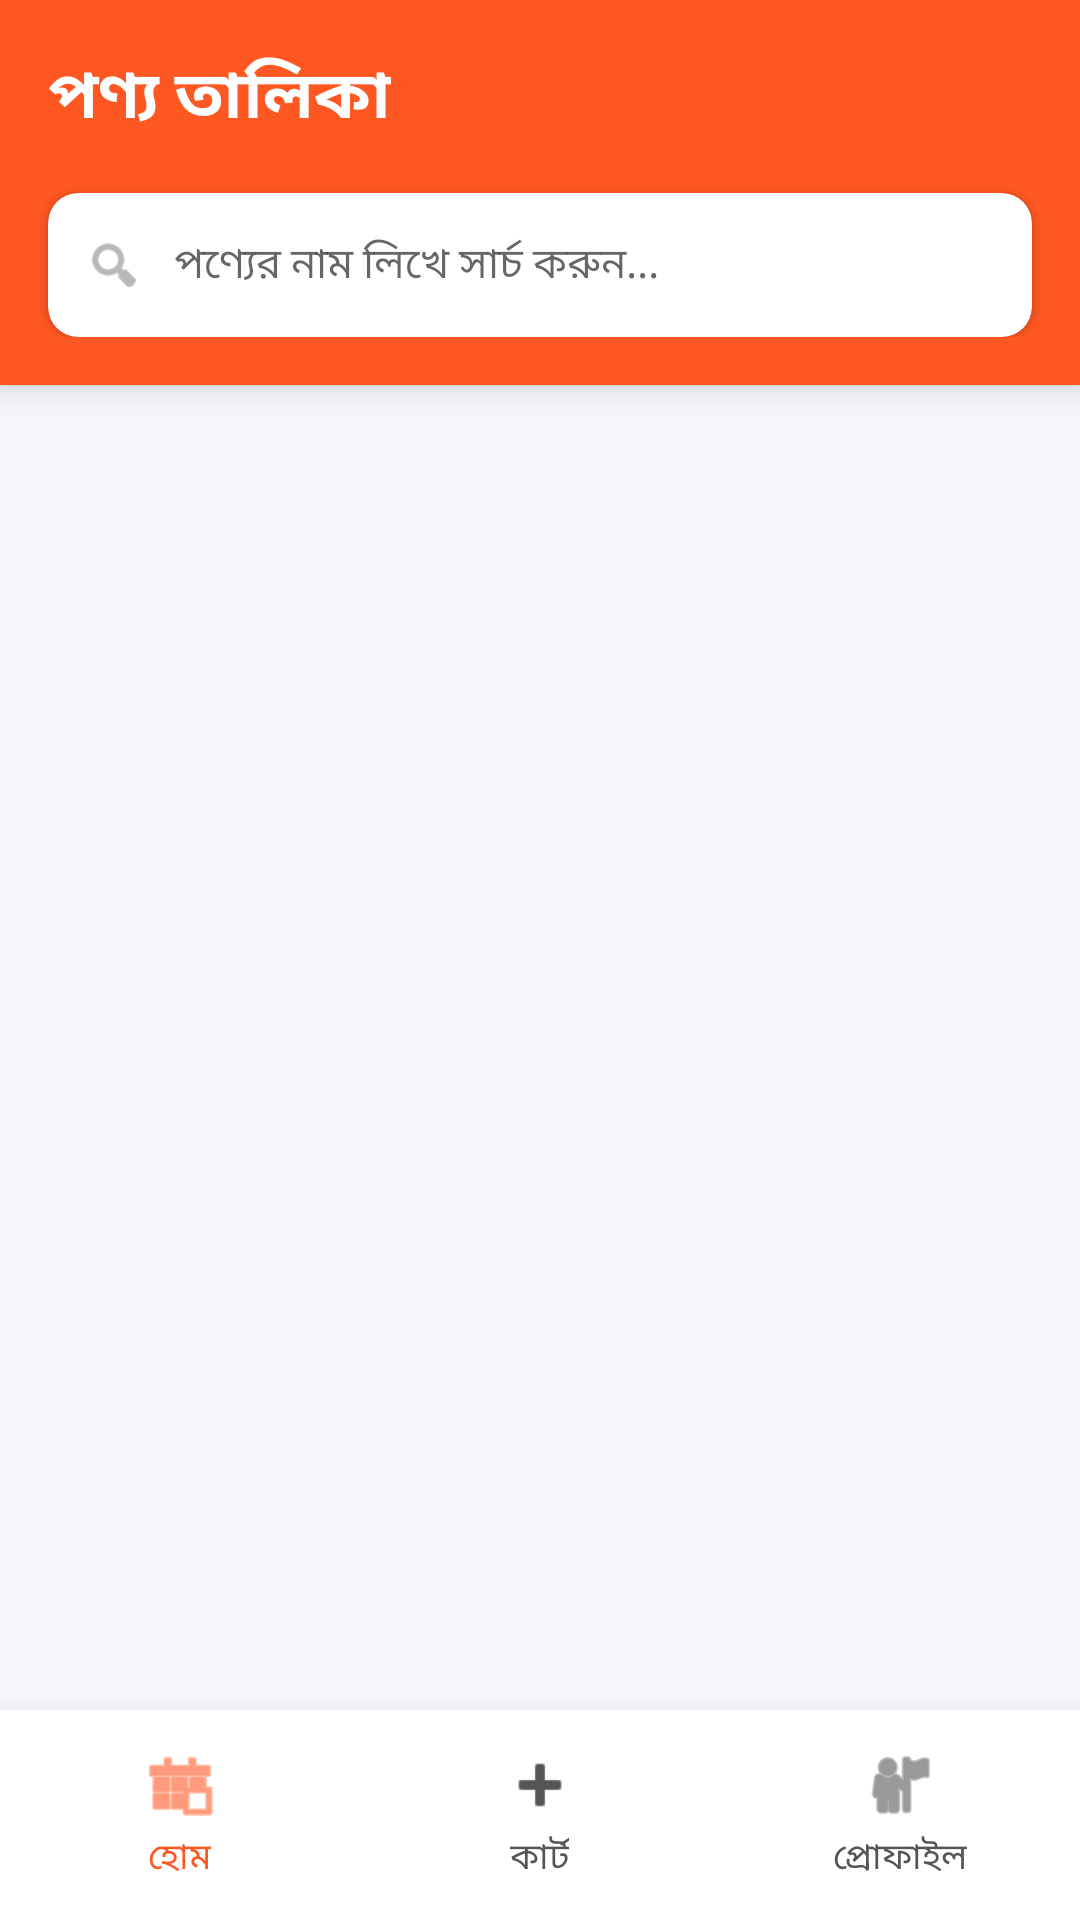

Icon bounding boxes for this 1080×1920 phone screenshot, format (x1=x1, y1=y1, x2=x2, y2=y2):
add: (x1=518, y1=1763, x2=562, y2=1807)
myplaces: (x1=872, y1=1756, x2=930, y2=1814)
search: (x1=92, y1=243, x2=136, y2=287)
today: (x1=149, y1=1756, x2=213, y2=1816)
